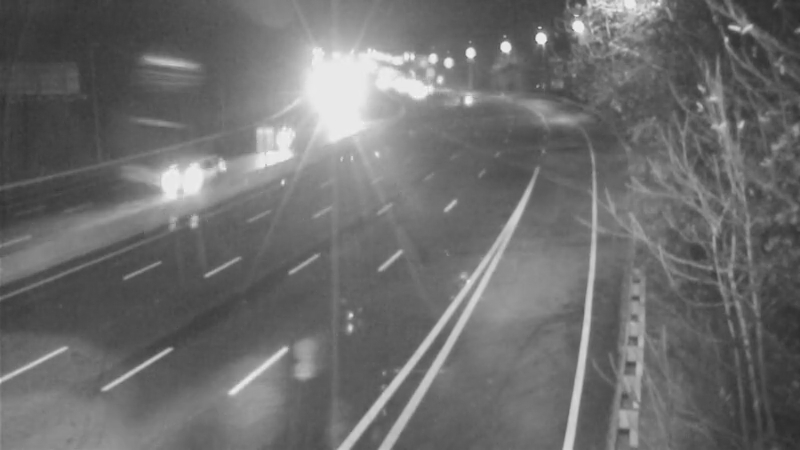vehicle: (137, 134, 217, 214), (434, 73, 484, 123), (256, 113, 306, 163)
